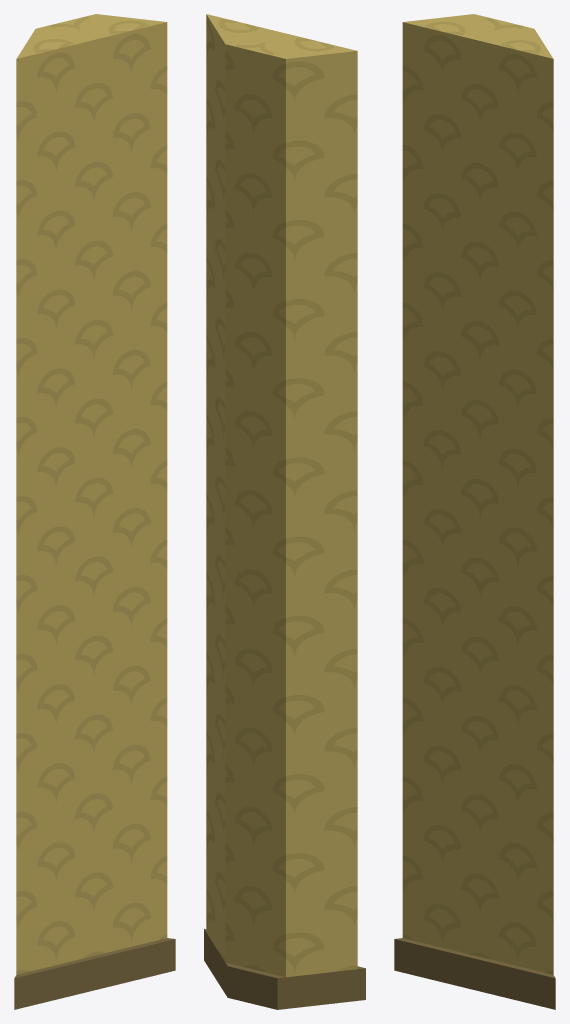
Rendered from BackRoomsWall01Corner05.FBX.
3 renders of one model, left to right at view 1: azimuth 30°, elevation 25°; view 2: azimuth 150°, elevation 25°; view 3: azimuth 330°, elevation 25°, orthographic.
Visible parts, largest first — view 1: BackRoomsWall01Corner05; view 2: BackRoomsWall01Corner05; view 3: BackRoomsWall01Corner05.
Boxes of the visible parts, <box> form: BackRoomsWall01Corner05: <box>14,14,175,1009</box>; BackRoomsWall01Corner05: <box>204,14,365,1009</box>; BackRoomsWall01Corner05: <box>394,14,555,1009</box>.
Bounding box in the file's own units: 53.54 × 18.54 × 300.
